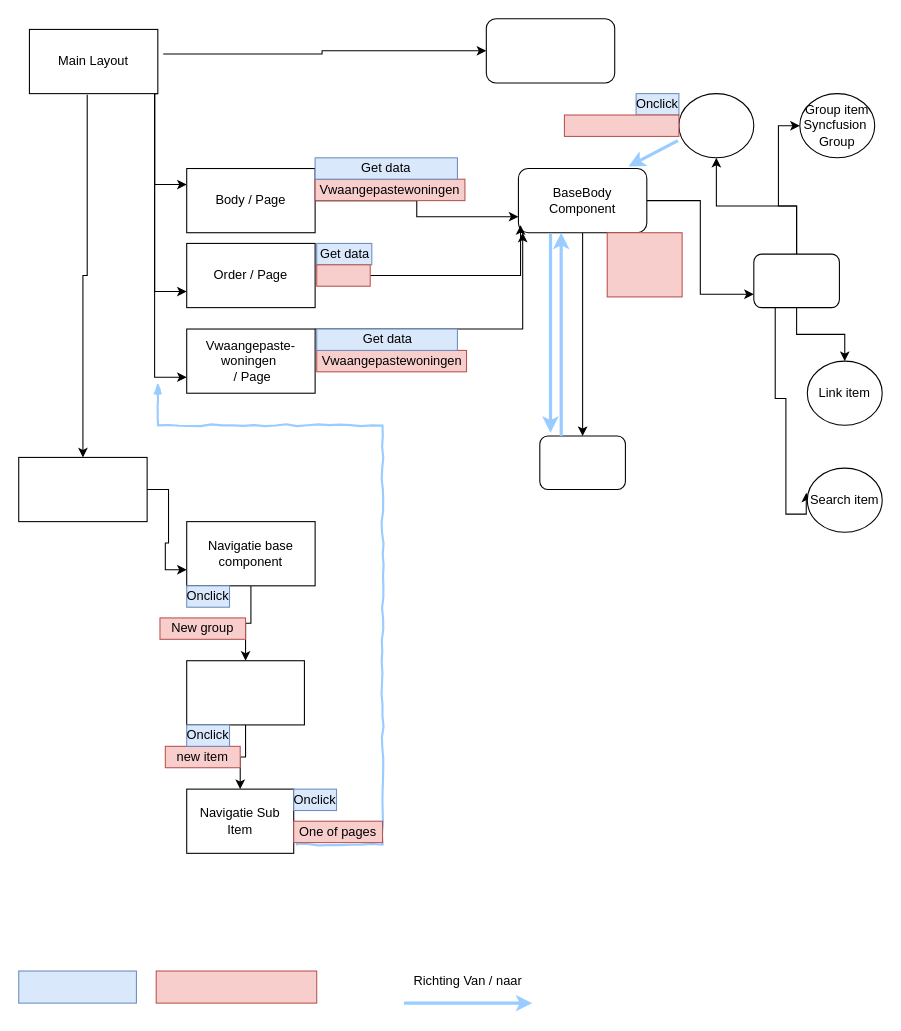
Image size: 901x1031. Some labels were removed from this diagram. Each missing label, with the centre of its shape:
Button item/ Syncfusion buttom: (x=716, y=125)
Event: (x=77, y=986)
Excel Export: (x=621, y=125)
Main Header: (x=550, y=50)
Metod get data from grid: (x=644, y=264)
Navigatie Menu: (x=82, y=489)
Navigatie Parent Component: (x=245, y=692)
Odata Grid Syncfusion Grid: (x=582, y=462)
Order: (x=343, y=275)
Toolbar: (x=796, y=280)
Wat gebeurt: (x=236, y=986)
